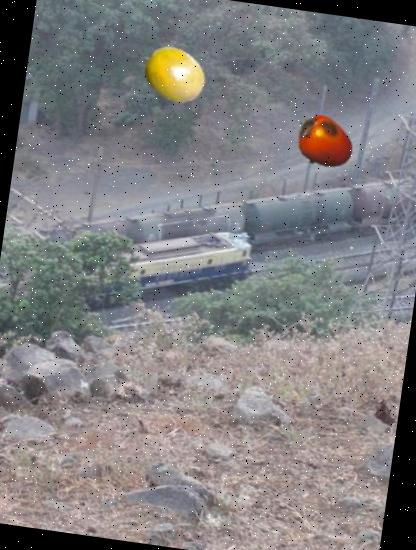Kaki: (288, 108, 360, 180)
Maracuja: (136, 37, 212, 113)
